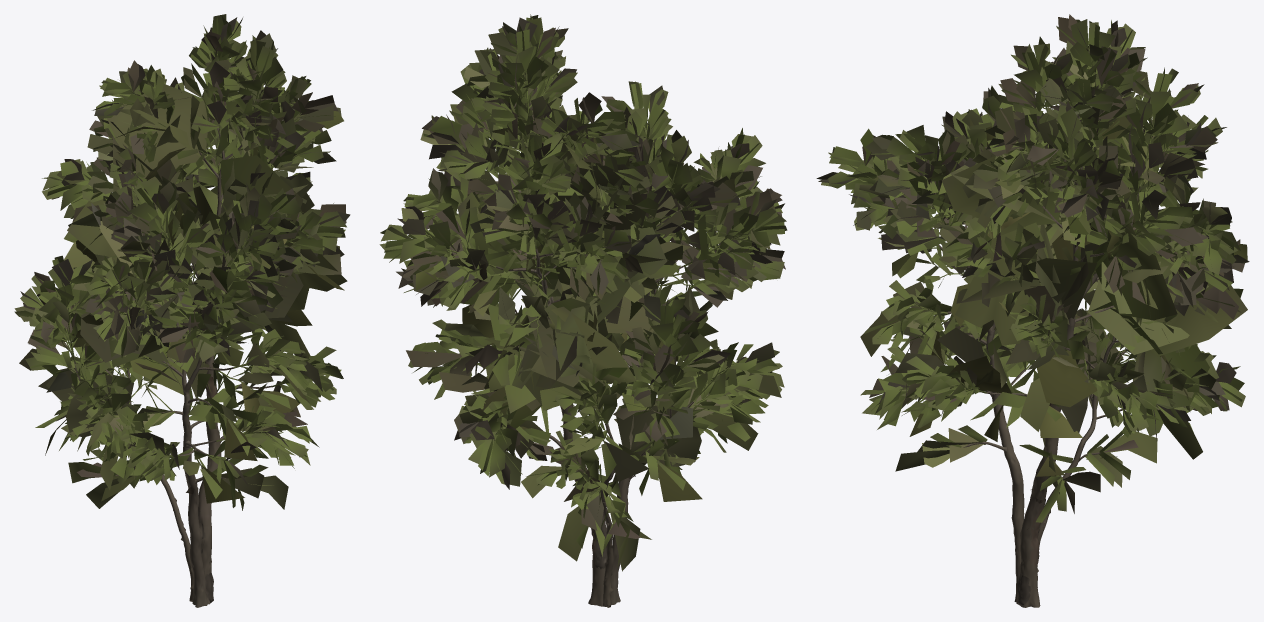
File: SM_BlackAlder_Forest_05_PP_LOD2.gltf
3 views of the same model, side by side, from view 1: azimuth 30°, elevation 25°; view 2: azimuth 150°, elevation 25°; view 3: azimuth 270°, elevation 25° (orthographic). The views are drawn at different scales.
Visible parts, largest first — view 1: SM_BlackAlder_Forest_05_PP; view 2: SM_BlackAlder_Forest_05_PP; view 3: SM_BlackAlder_Forest_05_PP.
Boxes of the visible parts, x1,y1,x2,y2 form: SM_BlackAlder_Forest_05_PP: (14, 14, 350, 607); SM_BlackAlder_Forest_05_PP: (379, 14, 787, 607); SM_BlackAlder_Forest_05_PP: (816, 14, 1249, 607).
Bounding box in the file's own units: 5.99 × 11.07 × 7.15.
Materials: 3 (3 with a texture image).
